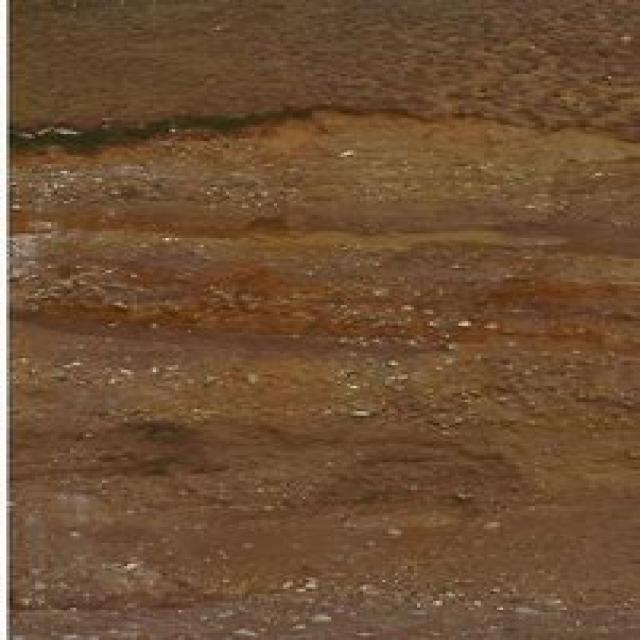Alluvial Soil: (96, 69, 529, 542)
